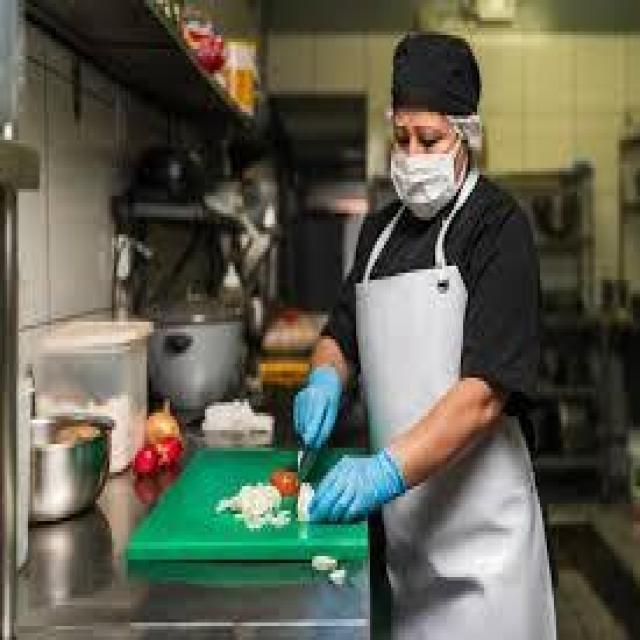apron: (318, 449, 399, 528), (290, 356, 337, 448)
gloves: (392, 30, 474, 116)
mask: (391, 150, 448, 213)
